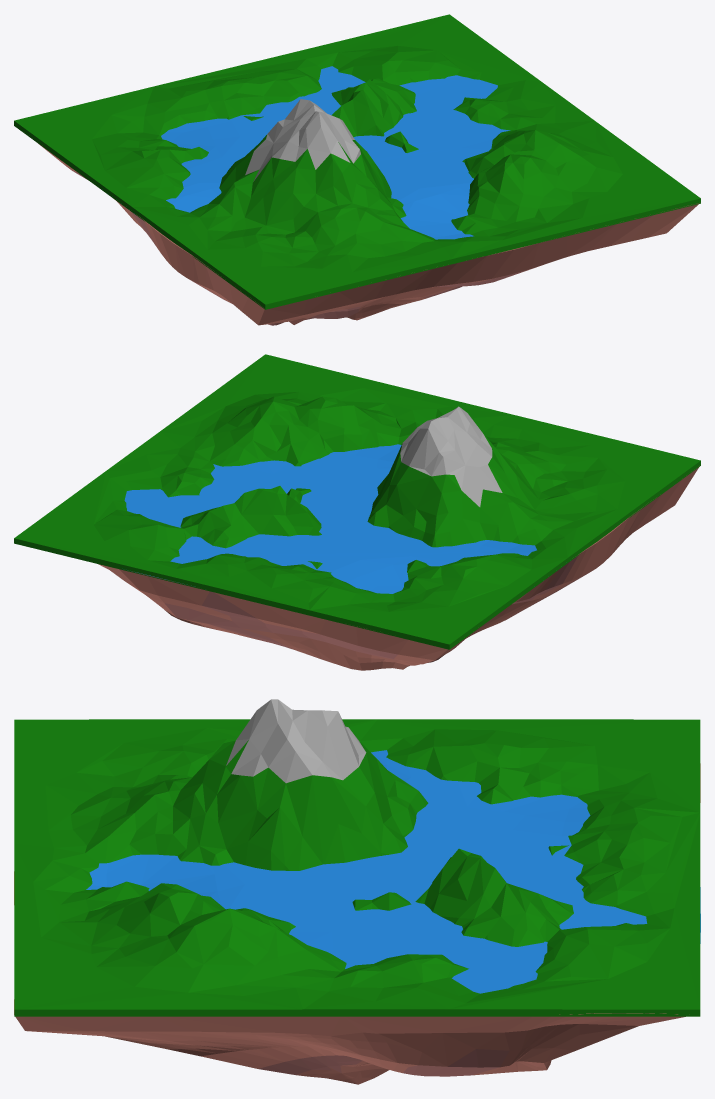
The model's file is Mountain.fbx.
The picture shows the model from 3 angles, top to bottom: view 1: azimuth 30°, elevation 25°; view 2: azimuth 150°, elevation 25°; view 3: azimuth 270°, elevation 25°; orthographic projection. The views are drawn at different scales.
Parts seen in each view (by area): view 1: Landscape_plane; view 2: Landscape_plane; view 3: Landscape_plane.
Part boxes in pixels (x1,y1,x2,y2): Landscape_plane: [14, 14, 700, 325]; Landscape_plane: [14, 354, 700, 670]; Landscape_plane: [14, 699, 700, 1084].
Size of the model in its own units: 9581 by 5200 by 9562.
